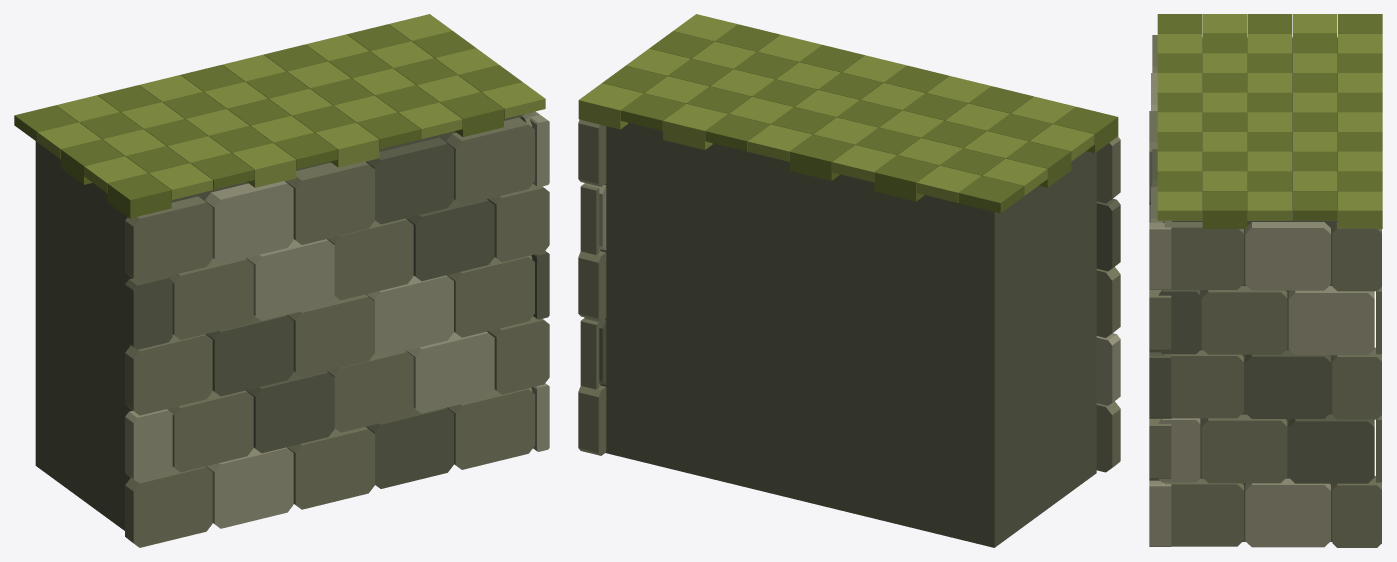
The model's file is SM_DC_Cliff_Coarse.fbx.
3 renders of one model, left to right at view 1: azimuth 30°, elevation 25°; view 2: azimuth 150°, elevation 25°; view 3: azimuth 270°, elevation 25°, orthographic. The views are drawn at different scales.
Visible parts, largest first — view 1: SM_DC_Cliff_Coarse; view 2: SM_DC_Cliff_Coarse; view 3: SM_DC_Cliff_Coarse.
Part boxes in pixels (x1=…): SM_DC_Cliff_Coarse: x1=14, y1=14, x2=549, y2=547; SM_DC_Cliff_Coarse: x1=578, y1=14, x2=1120, y2=547; SM_DC_Cliff_Coarse: x1=1149, y1=14, x2=1382, y2=547.
Size of the model in its own units: 3 by 1.5 by 2.4.
